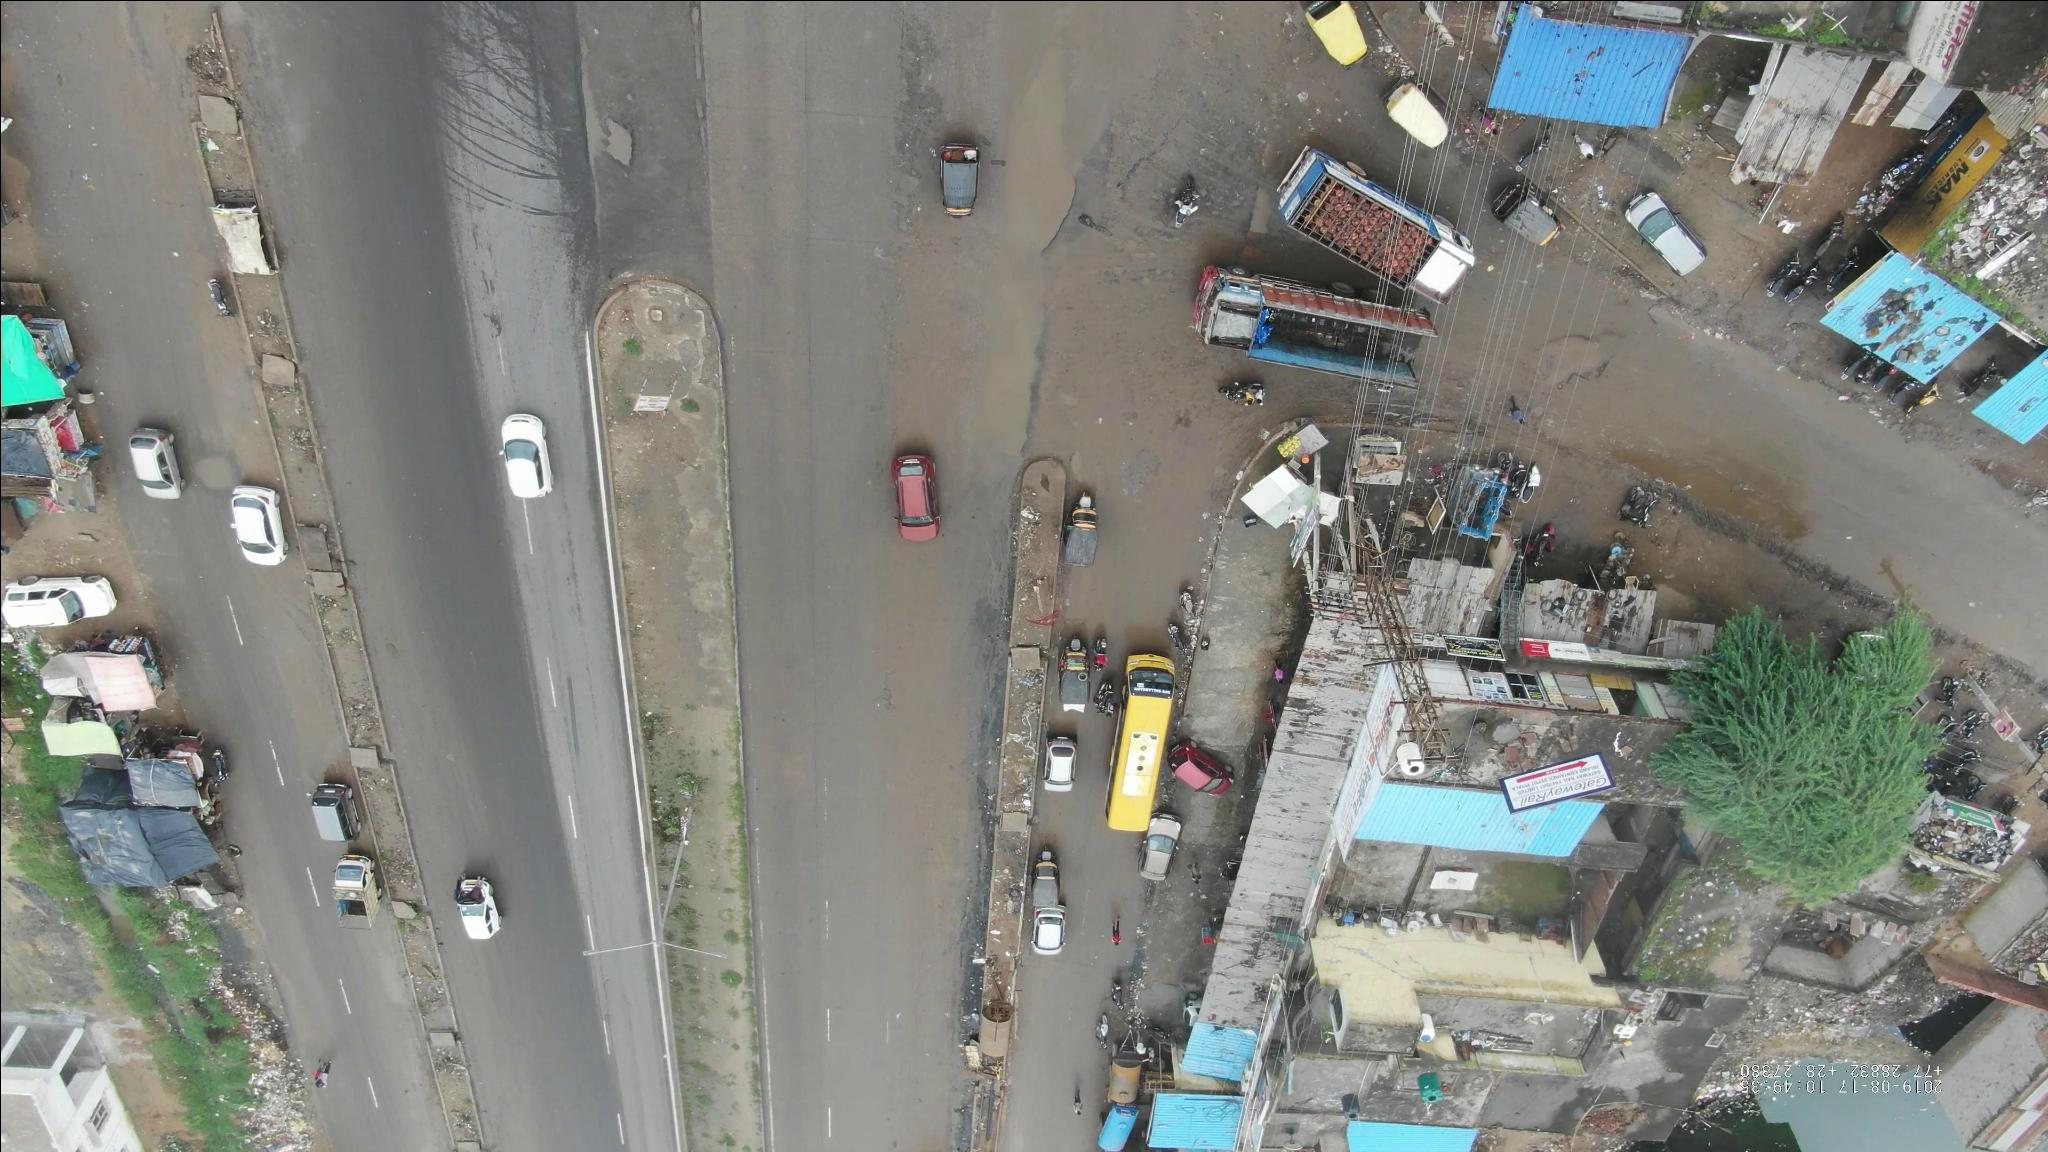Potholes: (993, 132, 1248, 262)
Waterlogging: (1613, 430, 1824, 549)
